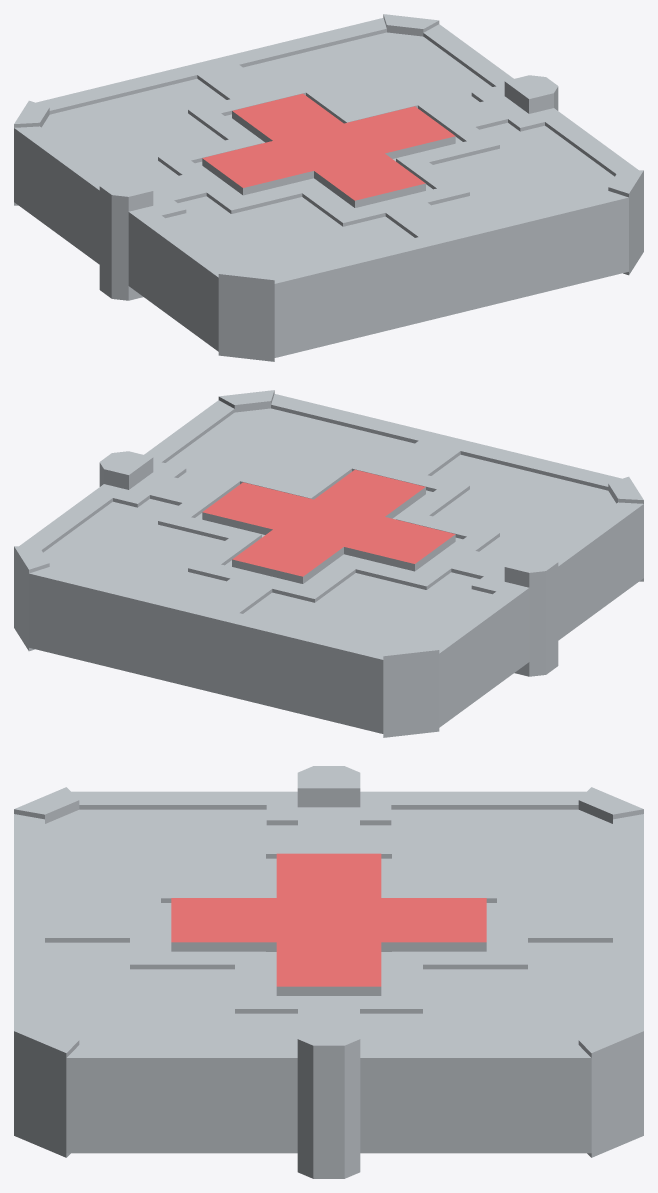
Rendered from medikit.fbx.
The picture shows the model from 3 angles, top to bottom: view 1: azimuth 30°, elevation 25°; view 2: azimuth 150°, elevation 25°; view 3: azimuth 270°, elevation 25°; orthographic projection. The views are drawn at different scales.
Visible parts, largest first — view 1: medikit; view 2: medikit; view 3: medikit.
Part boxes in pixels (bbox=[...]): medikit: bbox=[14, 14, 643, 361]; medikit: bbox=[14, 390, 643, 737]; medikit: bbox=[14, 766, 643, 1178].
Bounding box in the file's own units: 31.5 × 7 × 30.
